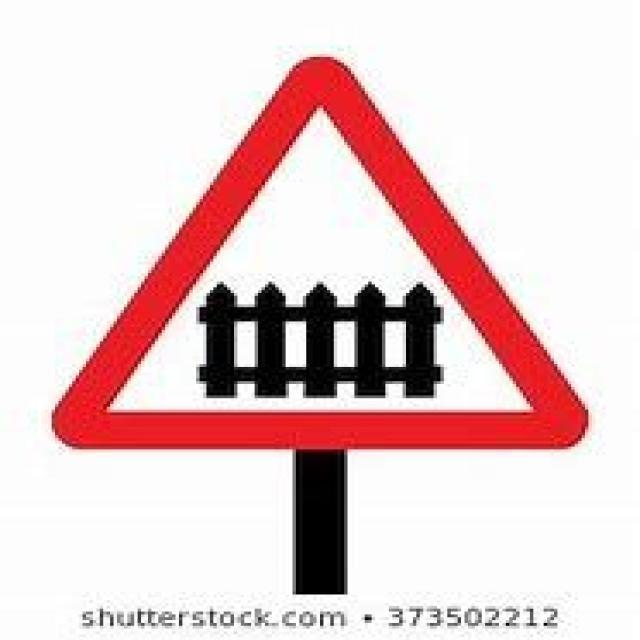guarded level crossing: (29, 33, 606, 472)
